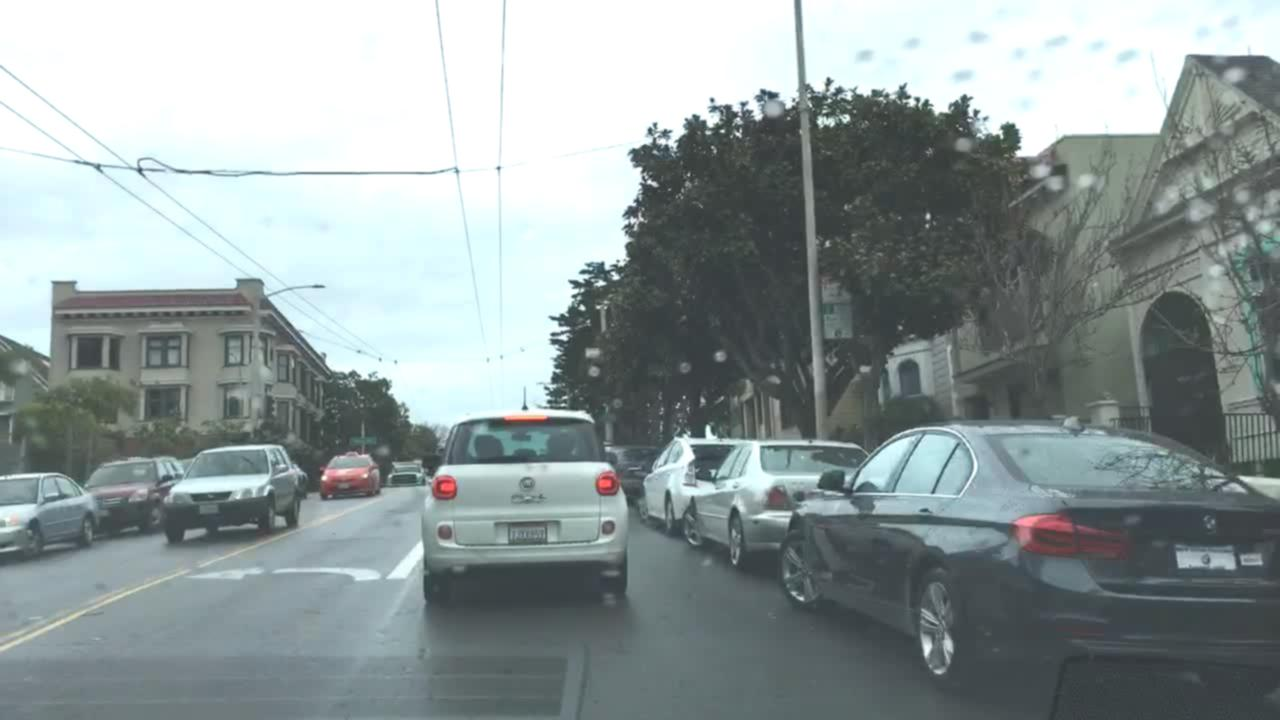bmw: (1185, 507, 1236, 542)
